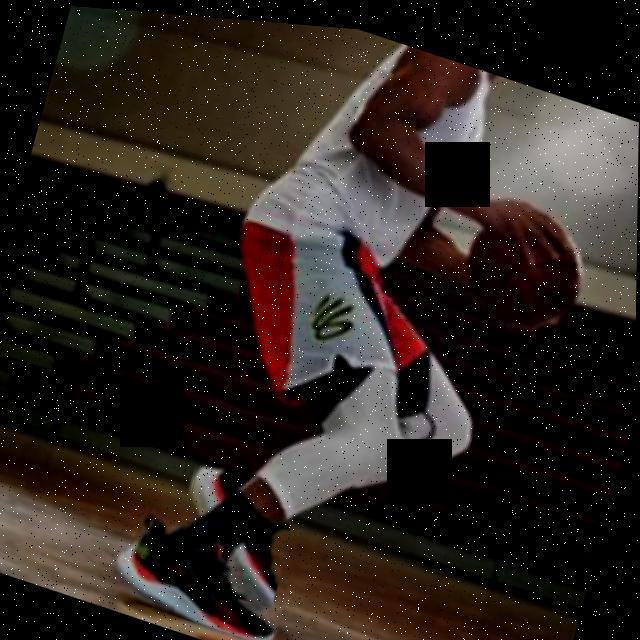shoe: (108, 499, 297, 640), (167, 440, 307, 607)
